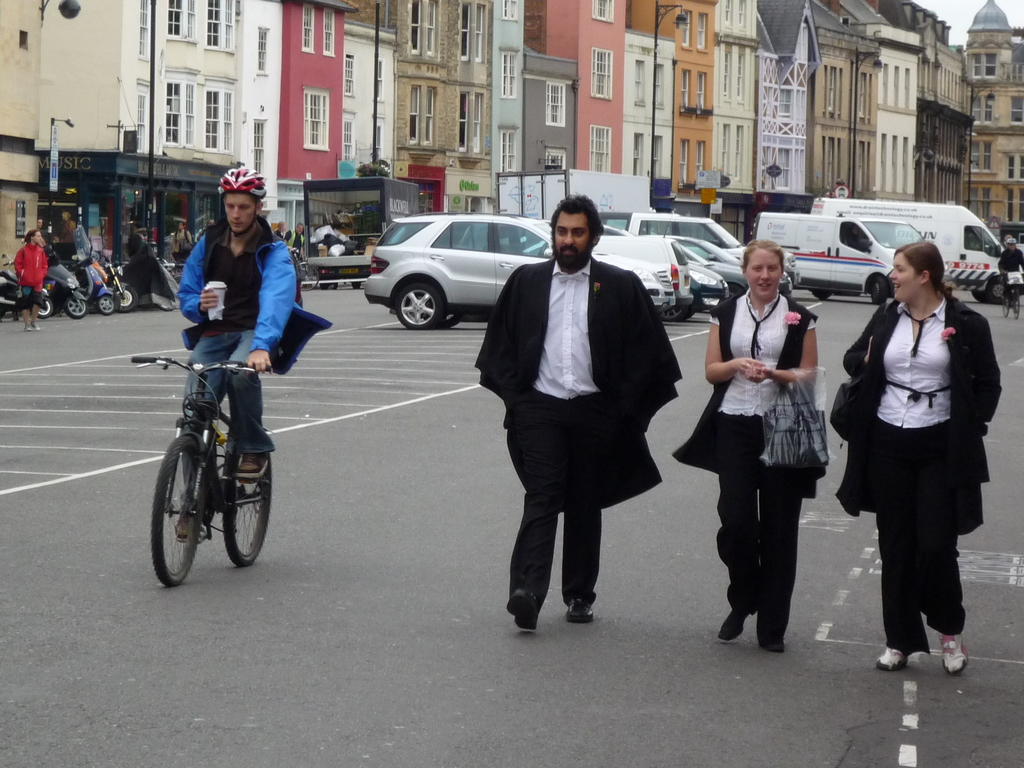Bike_away: (131, 349, 300, 567)
